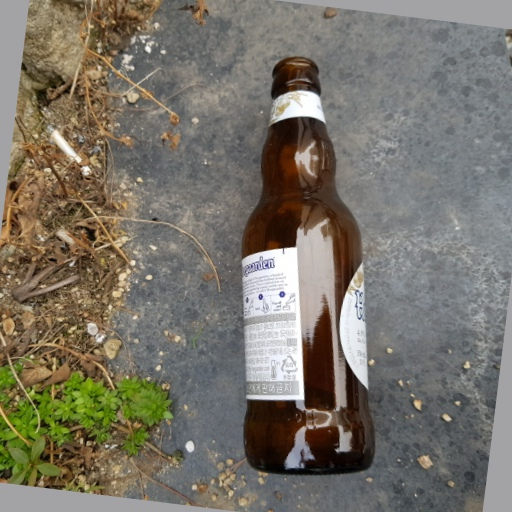Glass_1: (233, 55, 378, 482)
